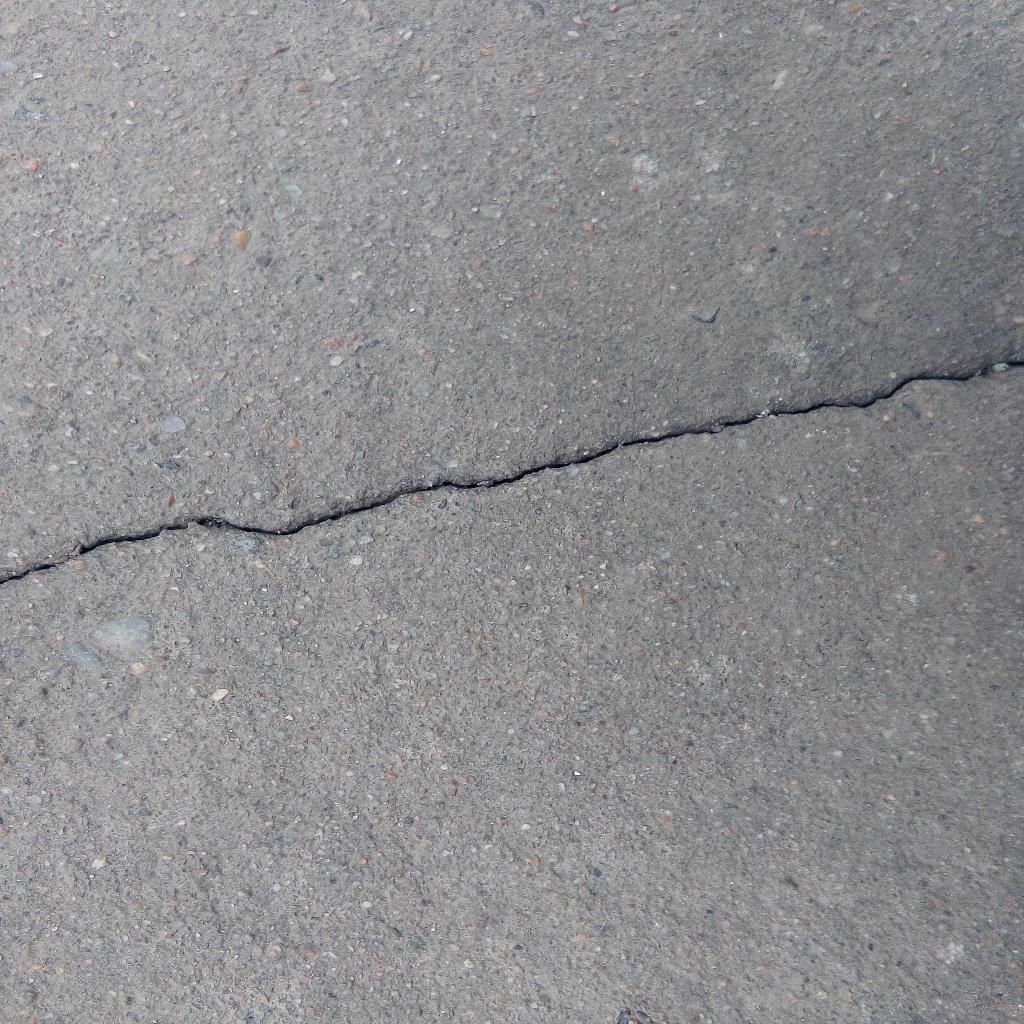Crack: (1, 358, 1024, 587)
